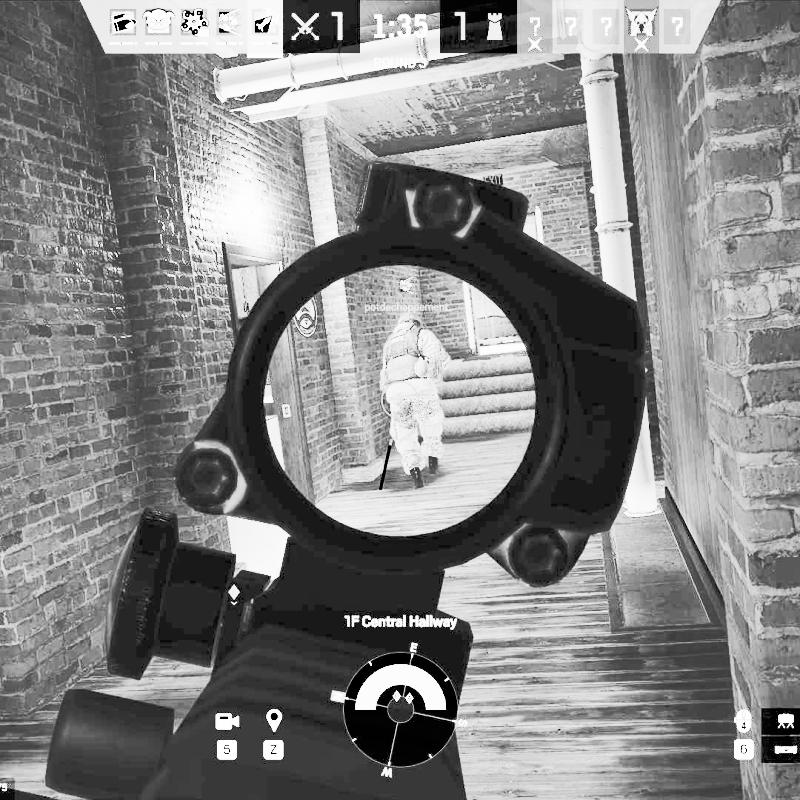Character: (378, 312, 454, 490)
Friend_label: (362, 275, 452, 314)
Head: (398, 313, 422, 329)
